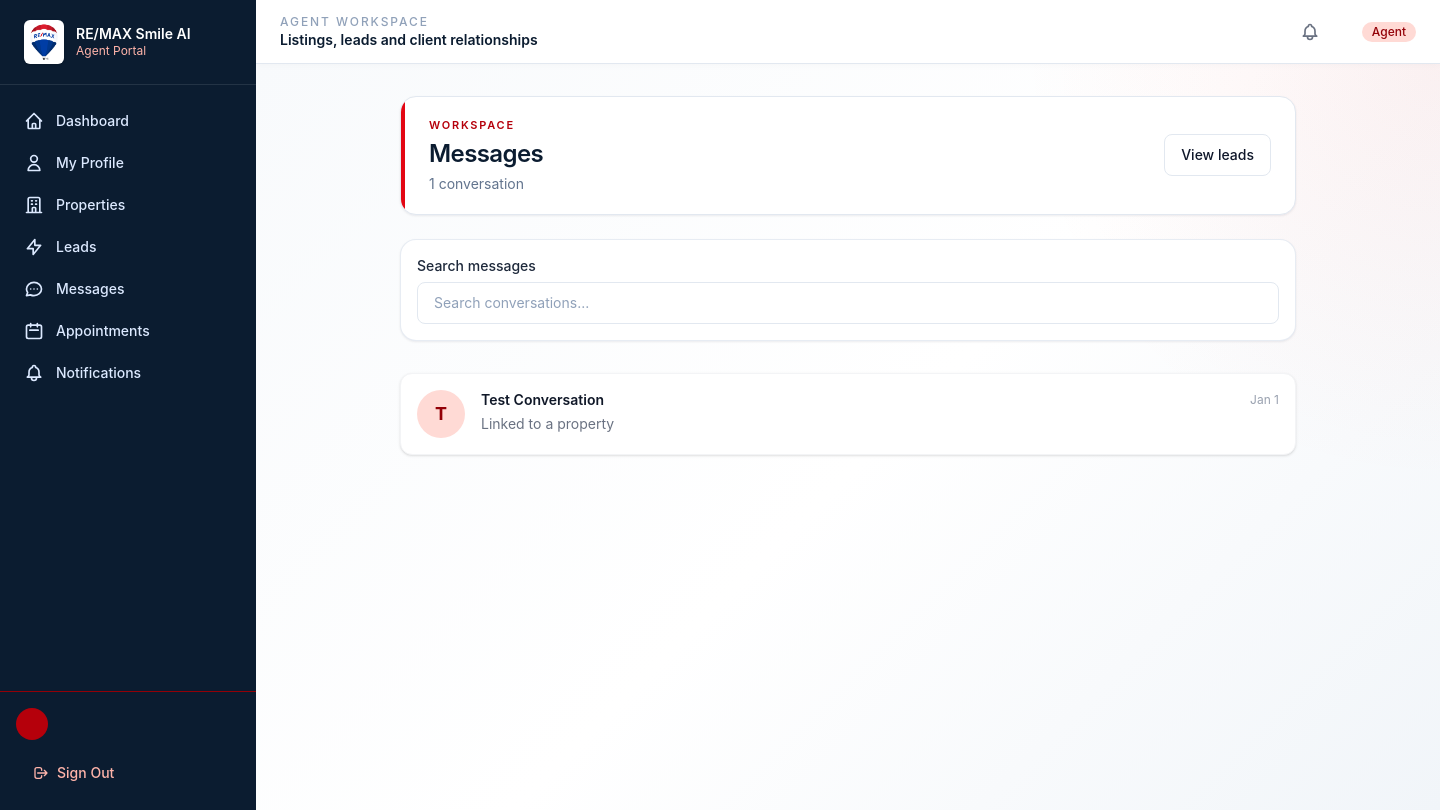
Scenario: AgentConversations › search filters conversations by subject
expect the heading "Test Conversation" is shown: met, box x1=481 y1=390 x2=604 y2=410
Type "missing" into the field labelled "Search messages" at (848,302), box x1=417 y1=282 x2=1279 y2=324
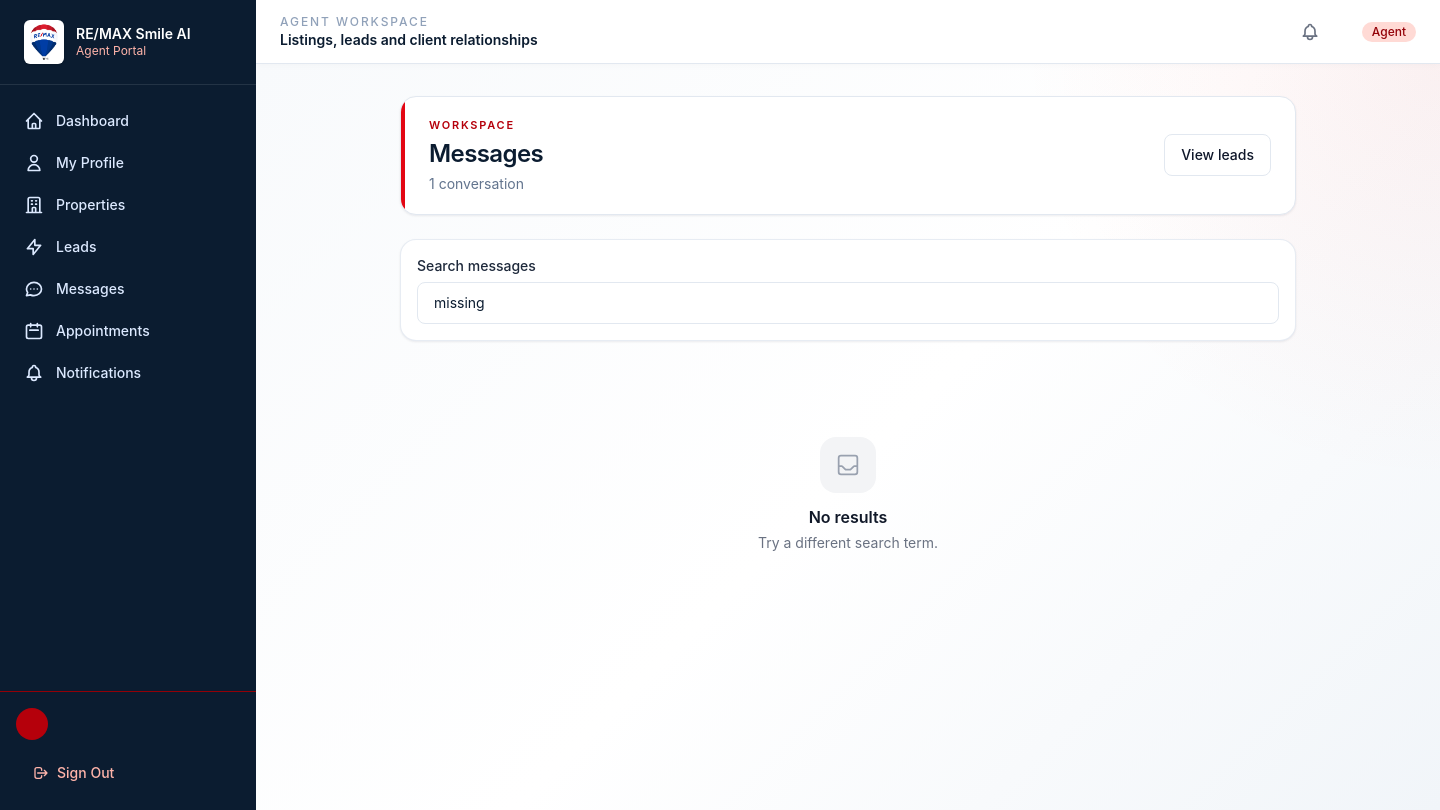
expect the text "No results" is shown: met, box x1=809 y1=506 x2=887 y2=526
